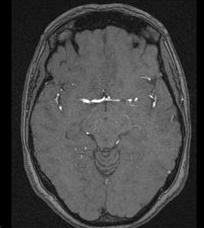Normal_Brain: (2, 1, 204, 228)
